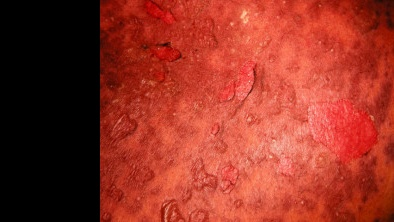SJS-TEN: (99, 0, 393, 222)
